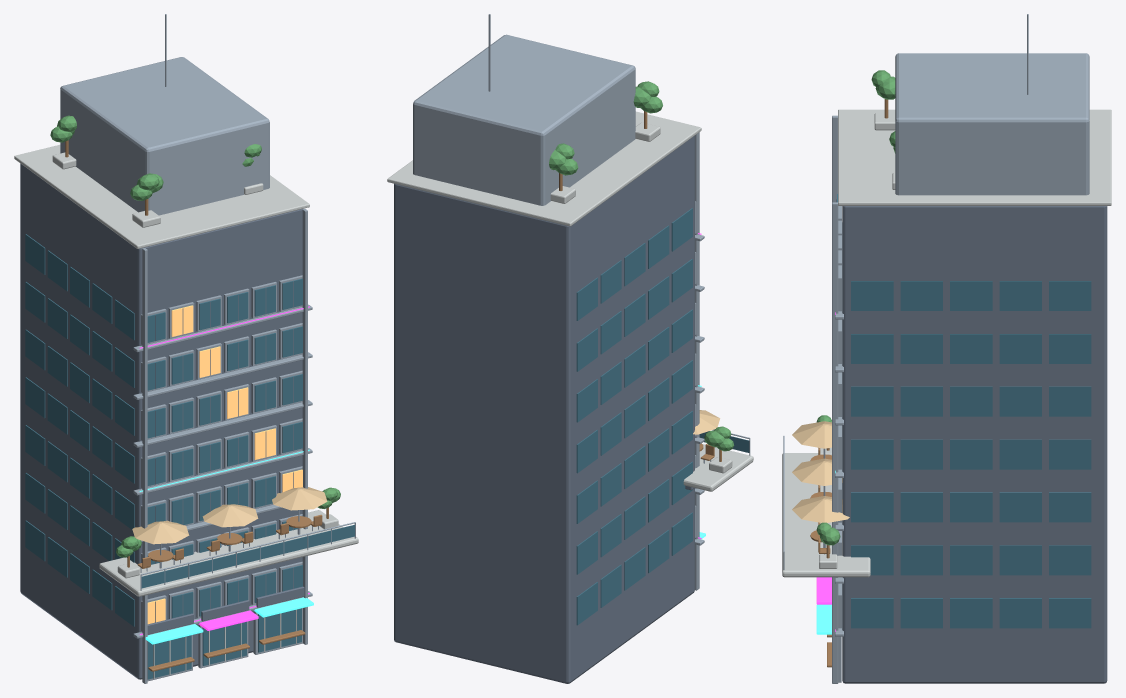
The model's file is neon-block-a.glb.
3 views of the same model, side by side, from view 1: azimuth 30°, elevation 25°; view 2: azimuth 150°, elevation 25°; view 3: azimuth 270°, elevation 25° (orthographic). The views are drawn at different scales.
Visible parts, largest first — view 1: Stepped tower, Recessed glazing.001, Tower crown, Roof coping, Recessed glazing, Cafe parasol, Food counter, Sculpted foliage, Architectural light ribbon.001, Architectural light ribbon; view 2: Stepped tower, Tower crown, Recessed glazing.001, Roof coping, Sculpted foliage; view 3: Stepped tower, Recessed glazing.001, Tower crown, Roof coping, Cafe parasol, Sculpted foliage, Food counter.
Part boxes in pixels (x1,y1,x2,y2): Stepped tower: (20,163,304,679); Recessed glazing.001: (25,234,354,679); Tower crown: (60,14,355,683); Roof coping: (14,145,358,678); Recessed glazing: (147,305,302,624); Cafe parasol: (132,487,327,544); Food counter: (65,140,328,671); Sculpted foliage: (50,115,340,557); Architectural light ribbon.001: (139,449,313,644); Architectural light ribbon: (139,306,309,634); Stepped tower: (394,136,694,683); Tower crown: (413,14,750,590); Recessed glazing.001: (576,208,749,625); Roof coping: (387,111,753,491); Sculpted foliage: (549,81,734,451); Stepped tower: (836,199,1107,683); Recessed glazing.001: (837,194,1091,628); Tower crown: (783,14,1089,683); Roof coping: (782,109,1111,577); Cafe parasol: (792,421,849,522); Sculpted foliage: (816,70,895,545); Food counter: (810,99,888,667).
Bounding box in the file's own units: 16.19 × 40 × 18.65.
